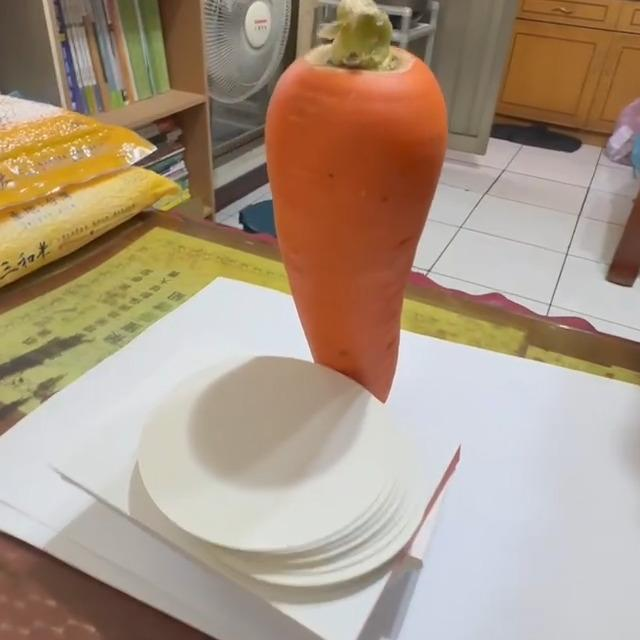carrot: (264, 1, 451, 404)
